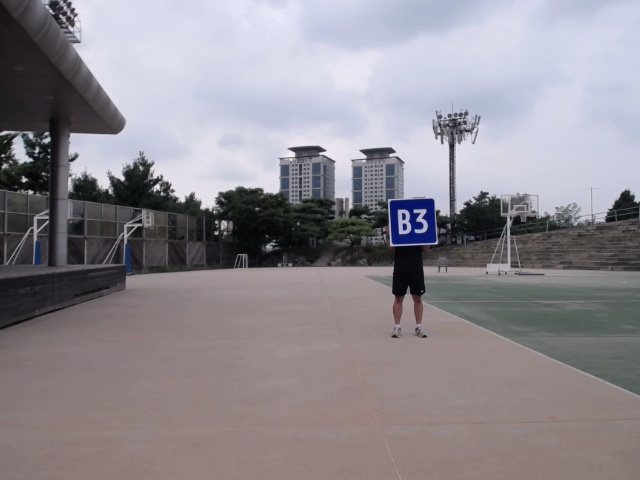delivery_b3: (386, 197, 440, 247)
